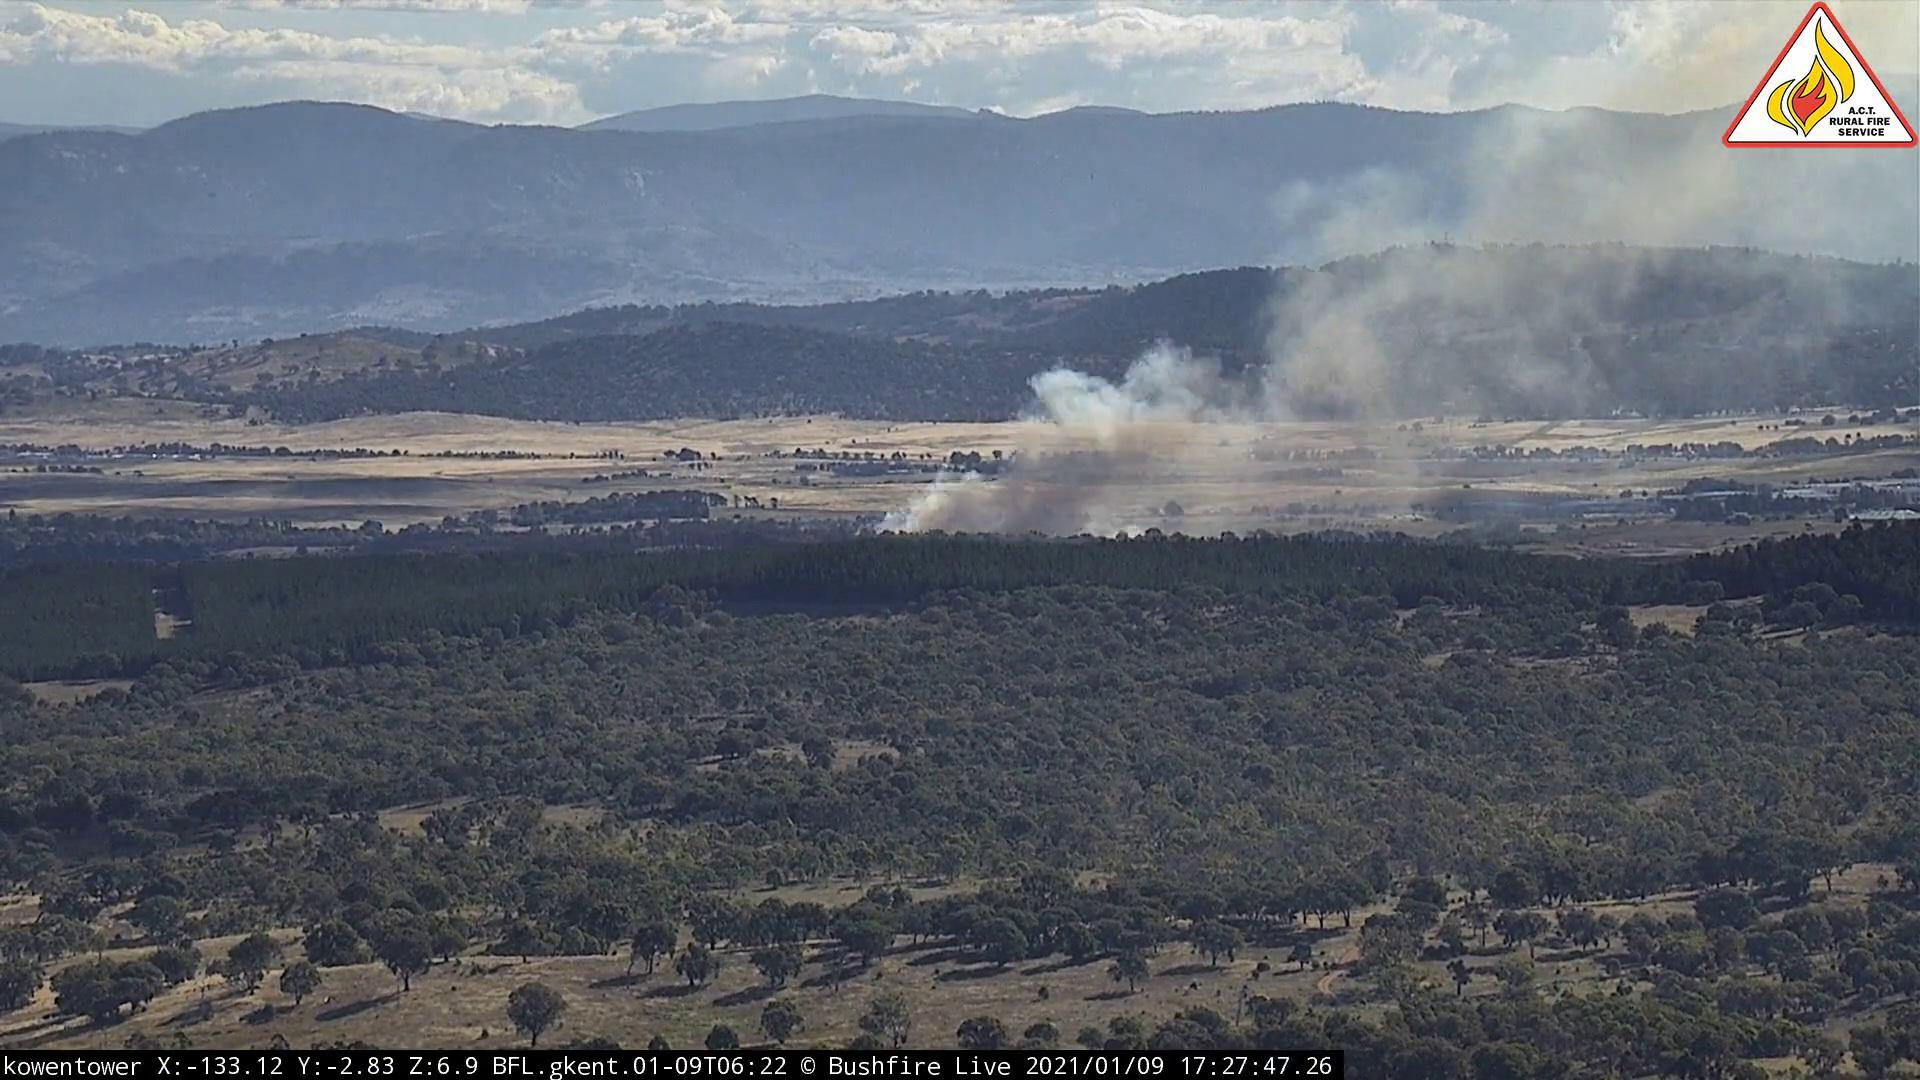instance_salient_object: (866, 57, 1716, 549)
